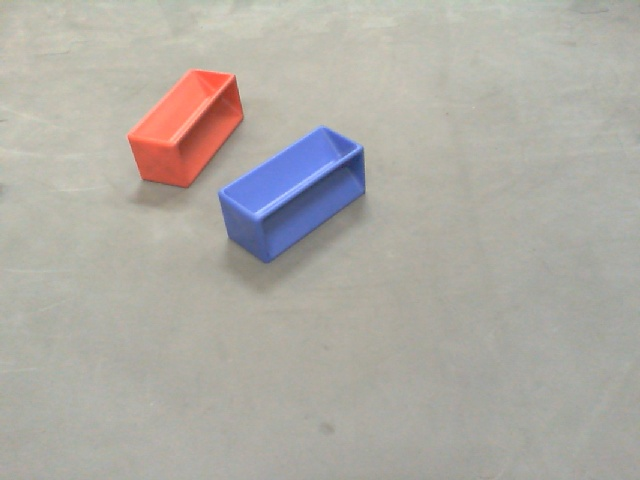BlueSample: (217, 129, 366, 260)
RedSample: (123, 67, 248, 189)
